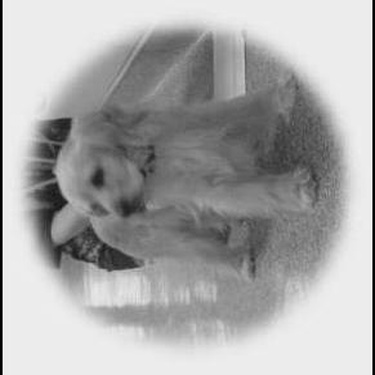dog: (45, 69, 320, 285)
